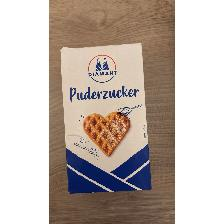Zucker: (59, 42, 155, 196)
